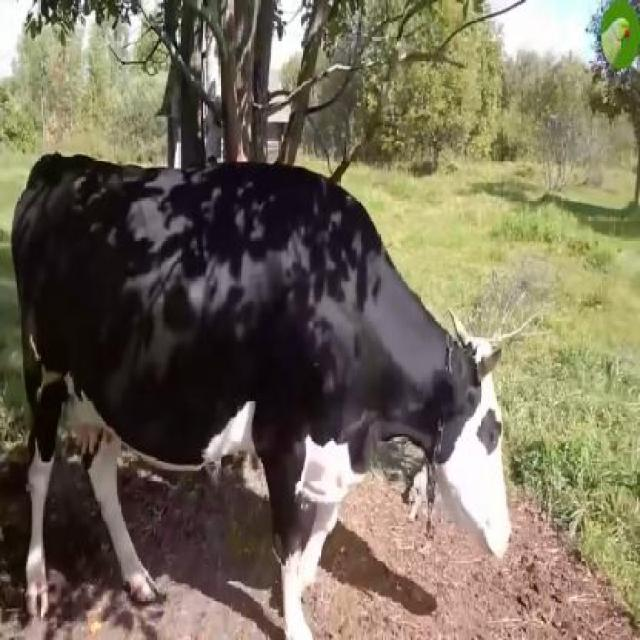Cow: (11, 150, 512, 638)
